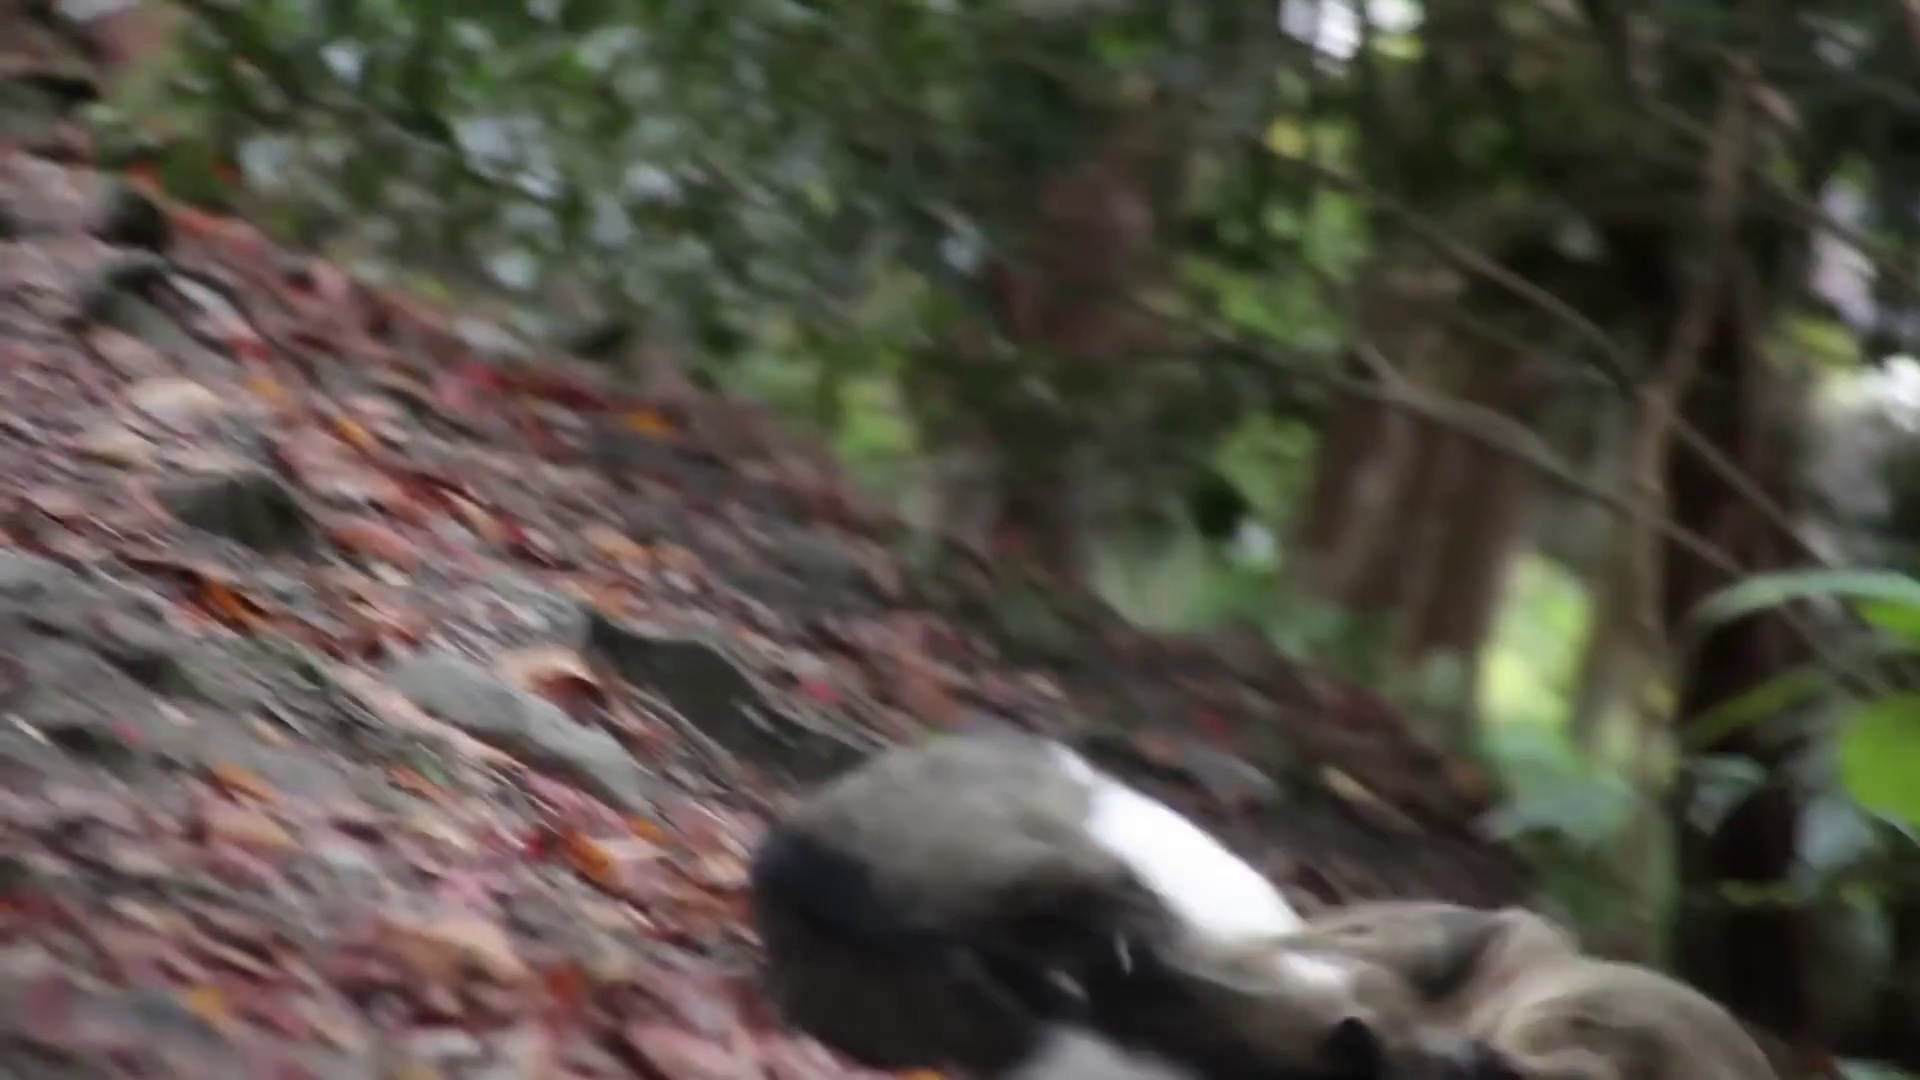black-white: (754, 737, 1305, 1080)
pure black: (1245, 897, 1774, 1080)
